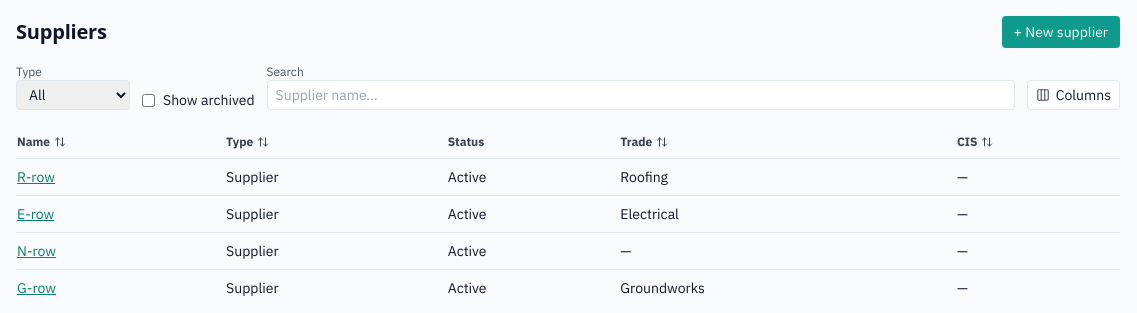
SupplierList — click-to-sort (Chat 41 §R-eyeball-Step2B Part 2) › Trade column sort (non-name): asc then desc; null trades sink in asc
Click the button with test id "supplier-list-sort-trade".
click(644, 142)  # box [620,134,668,150]
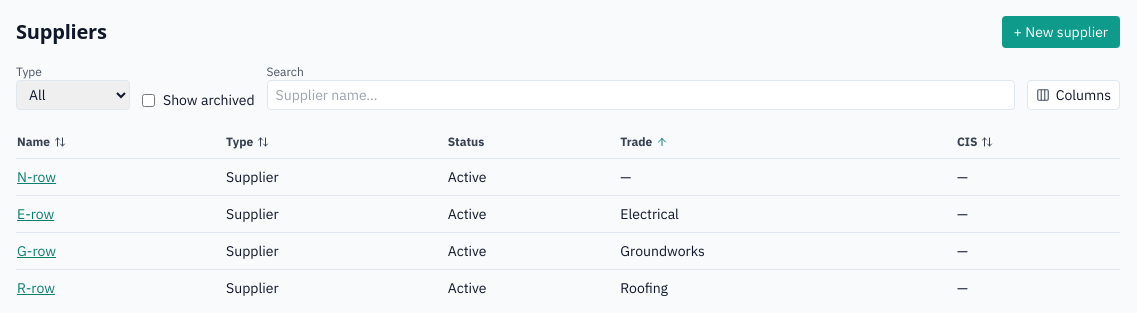
Check: the icon with test id "supplier-list-sort-trade-asc" is shown, box [656,136,668,148]
Click the button with test id "supplier-list-sort-trade".
click(644, 142)  # box [620,134,668,150]
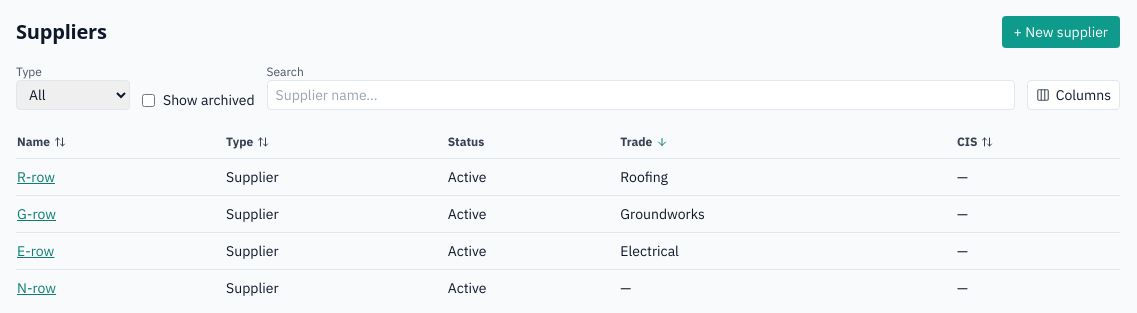
Check: the icon with test id "supplier-list-sort-trade-desc" is shown, box [656,136,668,148]
